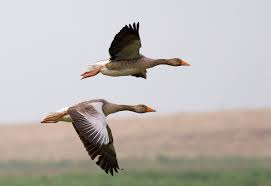goose: (38, 96, 158, 177), (78, 21, 192, 82)
